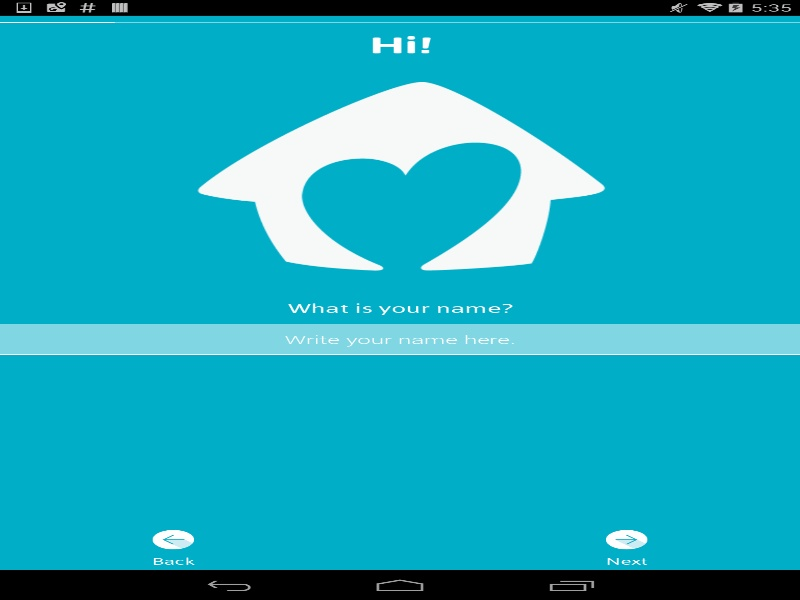Button: (573, 526, 680, 570), (120, 526, 226, 570)
Input: (0, 324, 800, 355)
